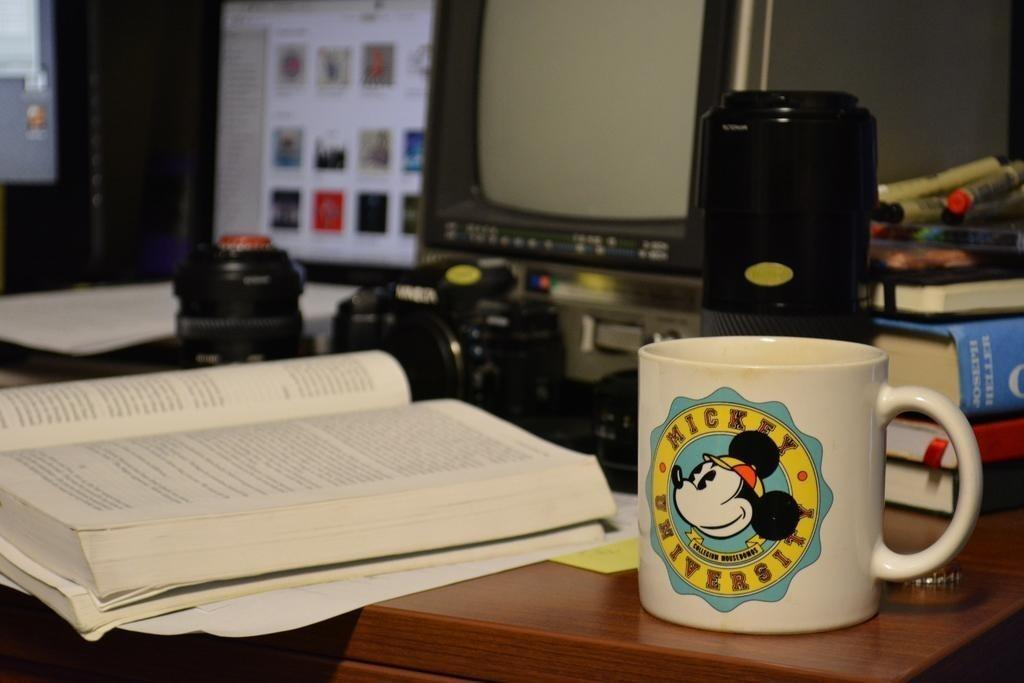cup-handle: (634, 329, 986, 642)
